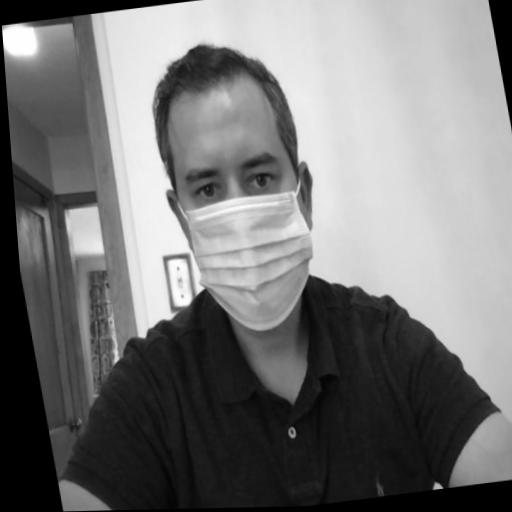mask: (141, 35, 341, 342)
